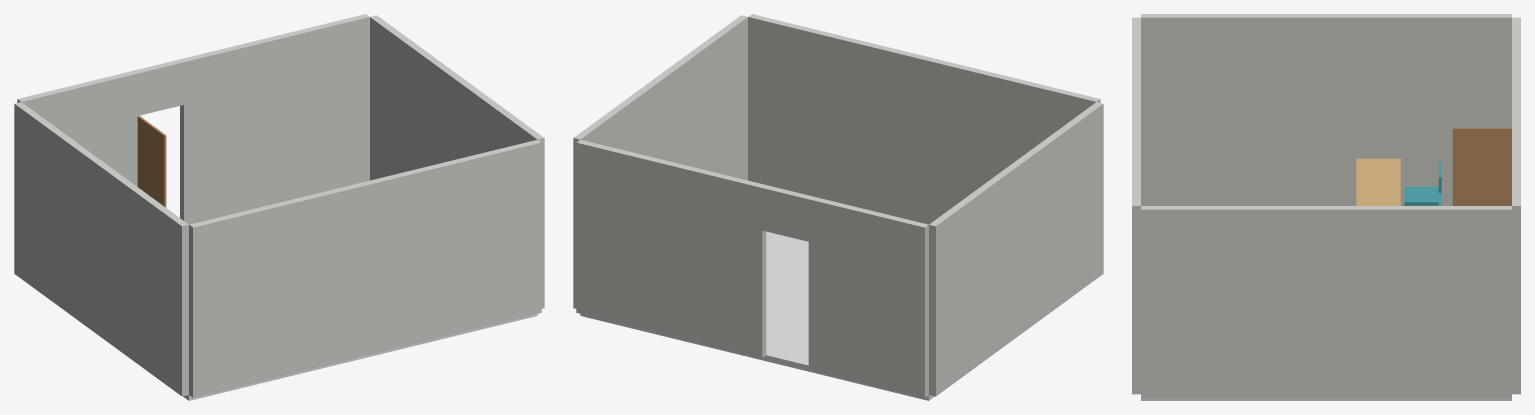
3 renders of one model, left to right at view 1: azimuth 30°, elevation 25°; view 2: azimuth 150°, elevation 25°; view 3: azimuth 270°, elevation 25°, orthographic. The views are drawn at different scales.
Parts seen in each view (by area): view 1: room:north:full, room:south:high, room:west:full, room:east:full, room:south:low, room:south:lintel, door:leaf, room:floor; view 2: room:north:full, room:south:high, room:west:full, room:south:low, room:east:full, room:floor, room:south:lintel; view 3: room:east:full, room:west:full, door:leaf, room:north:full, room:south:high, seat-1:table:top, room:floor, seat-2:table:top, seat-1:chair:seat, room:south:low.
Boxes of the visible parts, x1=… form: room:north:full: x1=189, y1=139, x2=541, y2=397; room:south:high: x1=180, y1=14, x2=369, y2=224; room:west:full: x1=14, y1=102, x2=188, y2=396; room:east:full: x1=370, y1=15, x2=544, y2=308; room:south:low: x1=17, y1=70, x2=137, y2=186; room:south:lintel: x1=134, y1=59, x2=183, y2=115; door:leaf: x1=137, y1=115, x2=166, y2=207; room:floor: x1=183, y1=314, x2=537, y2=400; room:north:full: x1=748, y1=14, x2=1100, y2=224; room:south:high: x1=576, y1=139, x2=766, y2=357; room:west:full: x1=929, y1=102, x2=1103, y2=396; room:south:low: x1=808, y1=196, x2=928, y2=397; room:east:full: x1=573, y1=15, x2=747, y2=308; room:floor: x1=580, y1=231, x2=934, y2=400; room:south:lintel: x1=762, y1=185, x2=812, y2=241; room:east:full: x1=1141, y1=206, x2=1511, y2=397; room:west:full: x1=1141, y1=14, x2=1511, y2=205; door:leaf: x1=1452, y1=127, x2=1511, y2=205; room:north:full: x1=1132, y1=17, x2=1140, y2=394; room:south:high: x1=1512, y1=105, x2=1520, y2=394; seat-1:table:top: x1=1356, y1=158, x2=1400, y2=189; room:floor: x1=1141, y1=398, x2=1511, y2=400; seat-2:table:top: x1=1356, y1=190, x2=1400, y2=205; seat-1:chair:seat: x1=1404, y1=186, x2=1438, y2=205; room:south:low: x1=1512, y1=17, x2=1520, y2=80.
Size of the model in its own units: 6.24 by 2.9 by 5.24.
